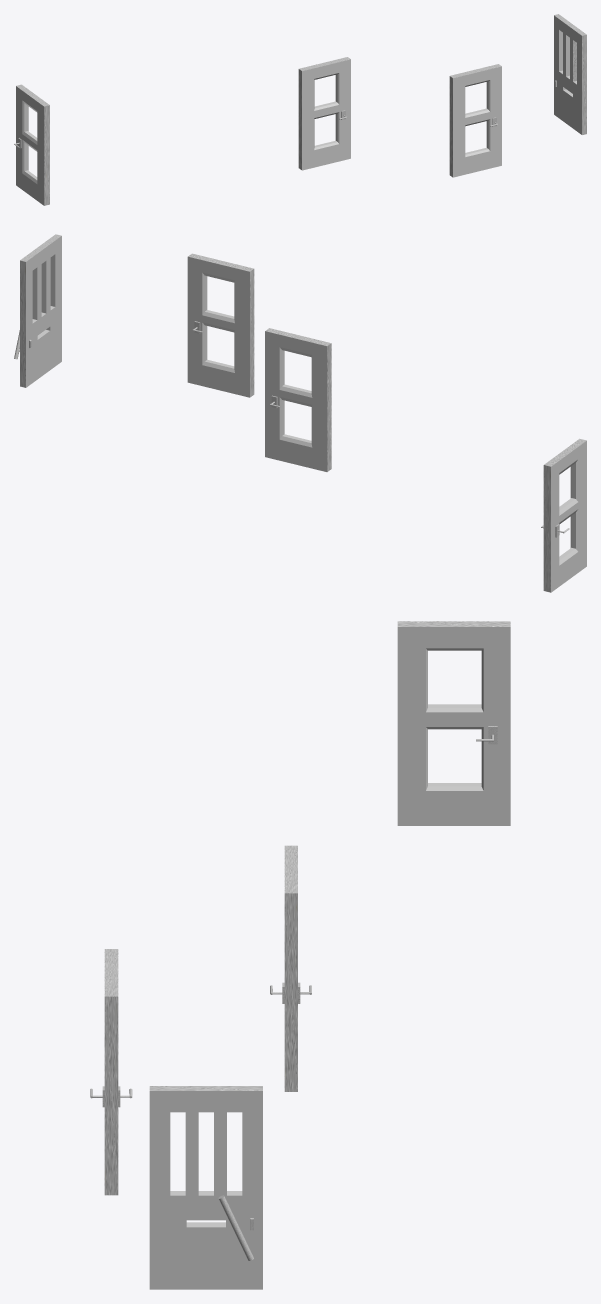
The model's file is Huis2_joined_doors.fbx.
The picture shows the model from 3 angles, top to bottom: view 1: azimuth 30°, elevation 25°; view 2: azimuth 150°, elevation 25°; view 3: azimuth 270°, elevation 25°; orthographic projection. The views are drawn at different scales.
Parts seen in each view (by area): view 1: Cylinder.001, Cylinder.003, Cube.042, Cylinder.002; view 2: Cylinder.001, Cylinder.003, Cube.042, Cylinder.002; view 3: Cube.042, Cylinder.002, Cylinder.001, Cylinder.003.
Part boxes in pixels (bbox=[...]): Cylinder.001: bbox=[449, 64, 501, 177]; Cylinder.003: bbox=[298, 57, 350, 170]; Cube.042: bbox=[554, 14, 586, 134]; Cylinder.002: bbox=[14, 84, 49, 205]; Cylinder.001: bbox=[187, 253, 254, 397]; Cylinder.003: bbox=[265, 328, 331, 471]; Cube.042: bbox=[14, 234, 61, 387]; Cylinder.002: bbox=[541, 438, 586, 592]; Cube.042: bbox=[149, 1086, 262, 1289]; Cylinder.002: bbox=[397, 621, 510, 825]; Cylinder.001: bbox=[90, 949, 132, 1195]; Cylinder.003: bbox=[270, 845, 311, 1091].
Size of the model in its own units: 1009 by 194 by 372.
